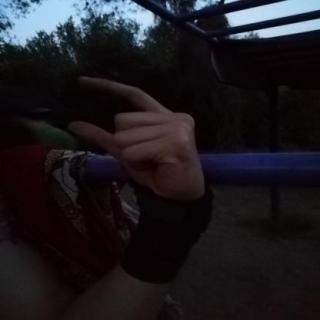DELL: (54, 68, 216, 209)
